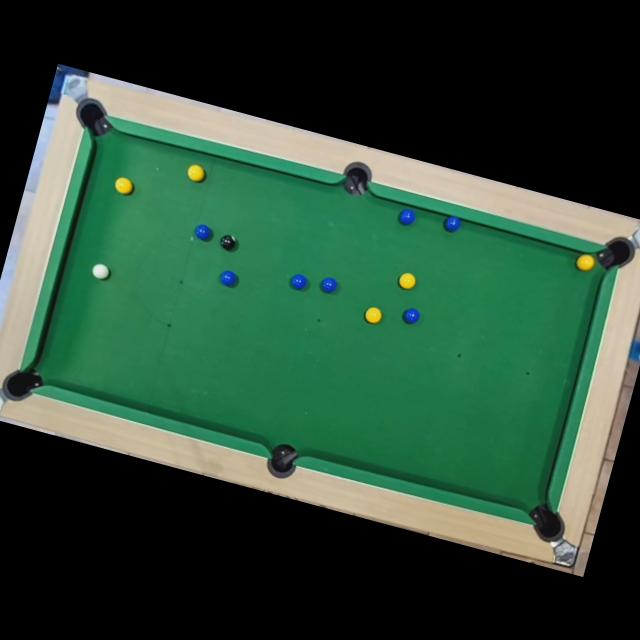Ball: (184, 162, 206, 182), (112, 176, 134, 196), (441, 214, 461, 234), (318, 275, 338, 295), (575, 252, 595, 272), (400, 306, 420, 326), (397, 271, 417, 291), (396, 207, 416, 227), (363, 304, 383, 324), (192, 222, 212, 242), (90, 262, 110, 281), (217, 269, 236, 288), (288, 272, 308, 290), (218, 232, 236, 250)
